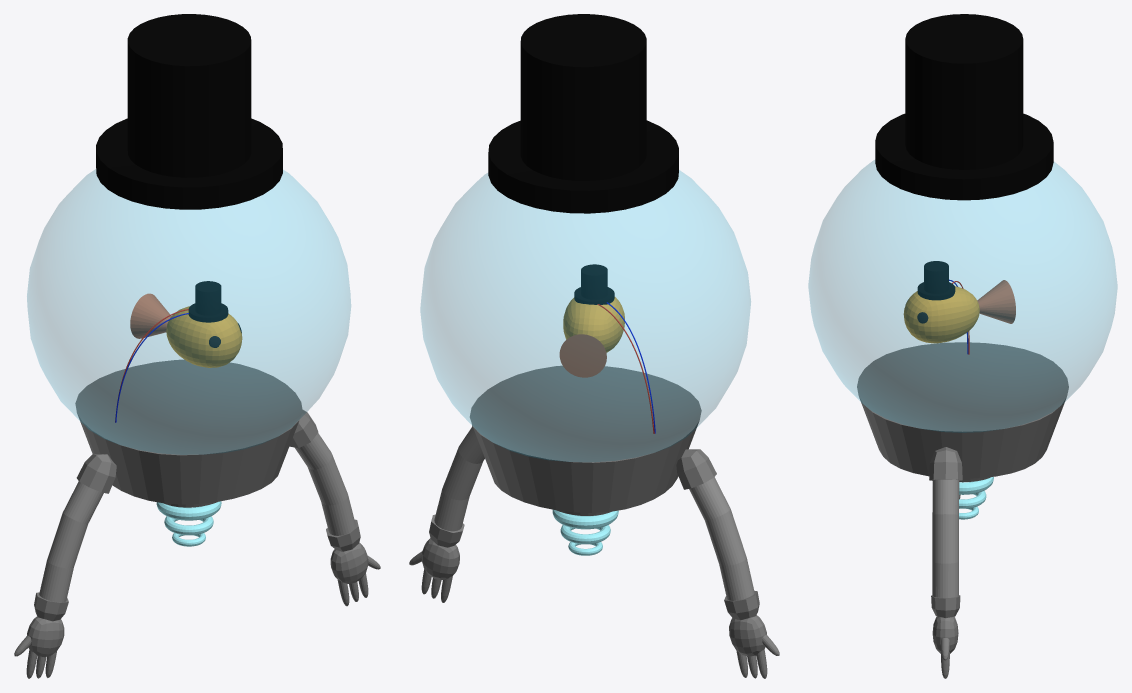
Rendered from fish.glb.
3 views of the same model, side by side, from view 1: azimuth 30°, elevation 25°; view 2: azimuth 150°, elevation 25°; view 3: azimuth 270°, elevation 25° (orthographic). The views are drawn at different scales.
Visible parts, largest first — view 1: Cube.001_primitive10, Cube.001_primitive2, Cube.001_primitive7, Cube.001_primitive4, Cube.001_primitive5, Cube.001_primitive3, Cube.001_primitive11, Cube.001_primitive1, Cube.001_primitive6; view 2: Cube.001_primitive10, Cube.001_primitive2, Cube.001_primitive7, Cube.001_primitive4, Cube.001_primitive3, Cube.001_primitive5, Cube.001_primitive11, Cube.001_primitive1, Cube.001_primitive6; view 3: Cube.001_primitive10, Cube.001_primitive7, Cube.001_primitive2, Cube.001_primitive4, Cube.001_primitive5, Cube.001_primitive1, Cube.001_primitive6, Cube.001_primitive11, Cube.001_primitive3.
Boxes of the visible parts, <box> form: Cube.001_primitive10: <box>27,169,350,454</box>; Cube.001_primitive2: <box>14,359,380,678</box>; Cube.001_primitive7: <box>96,14,282,209</box>; Cube.001_primitive4: <box>39,433,355,602</box>; Cube.001_primitive5: <box>166,306,242,367</box>; Cube.001_primitive3: <box>27,502,368,657</box>; Cube.001_primitive11: <box>156,501,221,546</box>; Cube.001_primitive1: <box>130,293,171,338</box>; Cube.001_primitive6: <box>188,281,228,322</box>; Cube.001_primitive10: <box>420,170,750,461</box>; Cube.001_primitive2: <box>409,365,779,678</box>; Cube.001_primitive7: <box>488,14,678,213</box>; Cube.001_primitive4: <box>434,426,754,600</box>; Cube.001_primitive3: <box>421,510,766,656</box>; Cube.001_primitive5: <box>563,297,624,352</box>; Cube.001_primitive11: <box>552,509,618,555</box>; Cube.001_primitive1: <box>559,334,606,377</box>; Cube.001_primitive6: <box>574,264,614,304</box>; Cube.001_primitive10: <box>808,160,1117,432</box>; Cube.001_primitive7: <box>875,14,1053,200</box>; Cube.001_primitive2: <box>857,342,1068,678</box>; Cube.001_primitive4: <box>932,479,959,597</box>; Cube.001_primitive5: <box>903,286,979,343</box>; Cube.001_primitive1: <box>977,280,1015,323</box>; Cube.001_primitive6: <box>917,261,955,300</box>; Cube.001_primitive11: <box>959,477,993,519</box>; Cube.001_primitive3: <box>932,477,990,653</box>.
Bounding box in the file's own units: 3.61 × 5.64 × 2.79.
